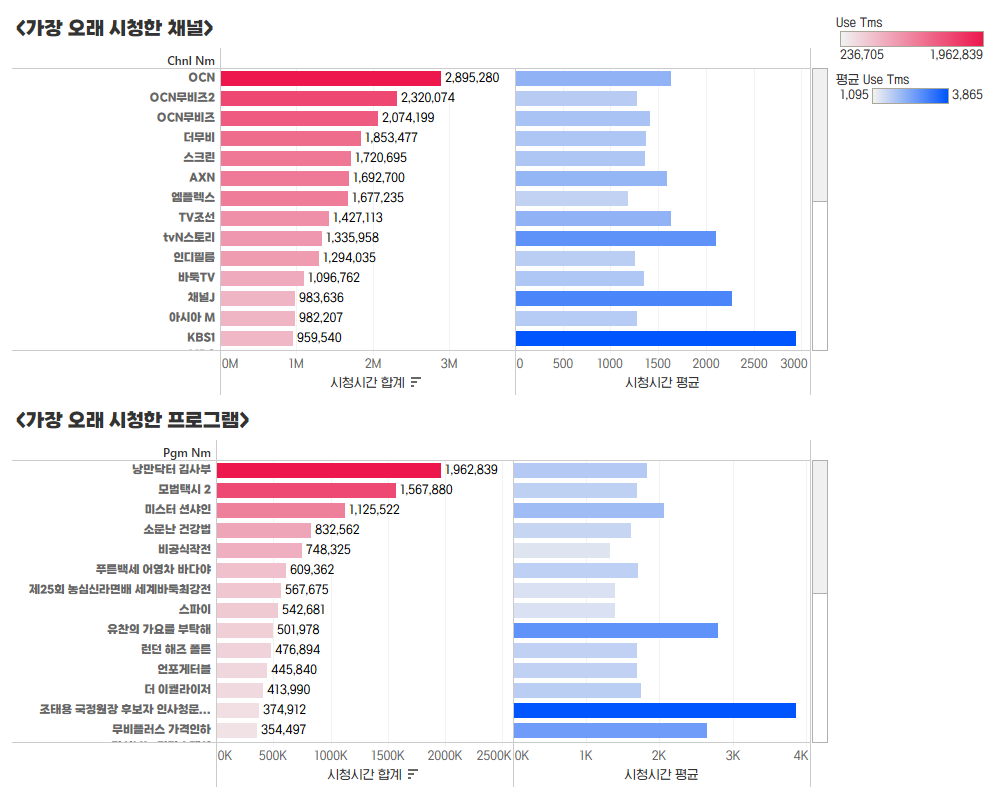

The dashboard page shown, as its layout file describes it:
{"tool":"tableau","page":{"name":"채널/프로그램별 시청시간","canvas":[1000,800],"ordinal":2},"visuals":[{"type":"worksheet","title":"가장 오래 시청한 채널","mark":"Automatic","rows":["chnl_nm"],"cols":["use_tms","use_tms"],"box":[8,8,824,392]},{"type":"legend","title":"가장 오래 시청한 프로그램","param":"[federated.054erxz1f1s16e17z74eg0wlufgh].[sum:use_tms:qk]","box":[832,8,160,56]},{"type":"legend","title":"가장 오래 시청한 프로그램","param":"[federated.054erxz1f1s16e17z74eg0wlufgh].[avg:use_tms:qk]","box":[832,64,160,56]},{"type":"worksheet","title":"가장 오래 시청한 프로그램","mark":"Automatic","rows":["pgm_nm"],"cols":["use_tms","use_tms"],"box":[8,400,824,392]}]}

Visuals, with their boxes in screenshot pixels (x1, y1, x2, y2), scaled from the page's 1000x800 canvas onto the 1000x800 screenshot:
"가장 오래 시청한 채널" worksheet: detection(8, 8, 832, 400)
"가장 오래 시청한 프로그램" legend: detection(832, 8, 992, 64)
"가장 오래 시청한 프로그램" legend: detection(832, 64, 992, 120)
"가장 오래 시청한 프로그램" worksheet: detection(8, 400, 832, 792)
